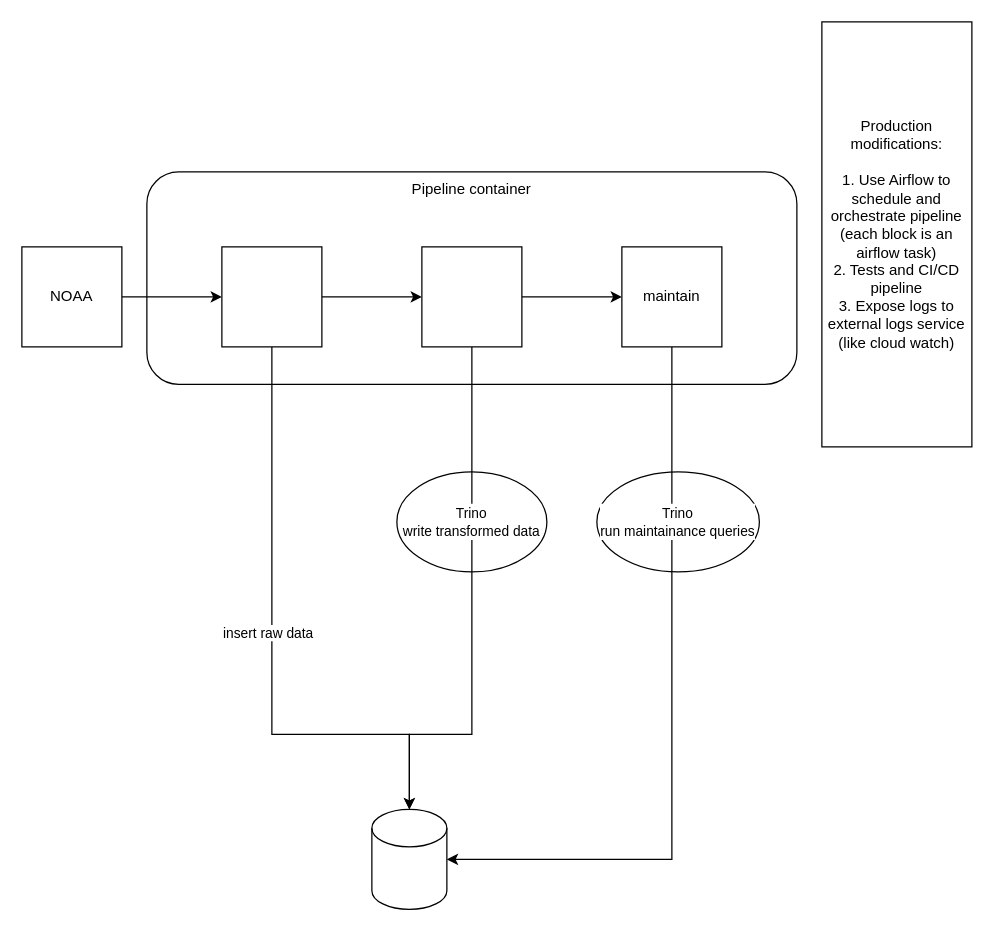
This 994x931 diagram has some shape labels left out. The box of each missing label's shape, as (x1, y1, x2, y2) in pixels:
iceberg: (371, 808, 447, 909)
ingest: (221, 246, 322, 347)
transform: (421, 246, 522, 347)
